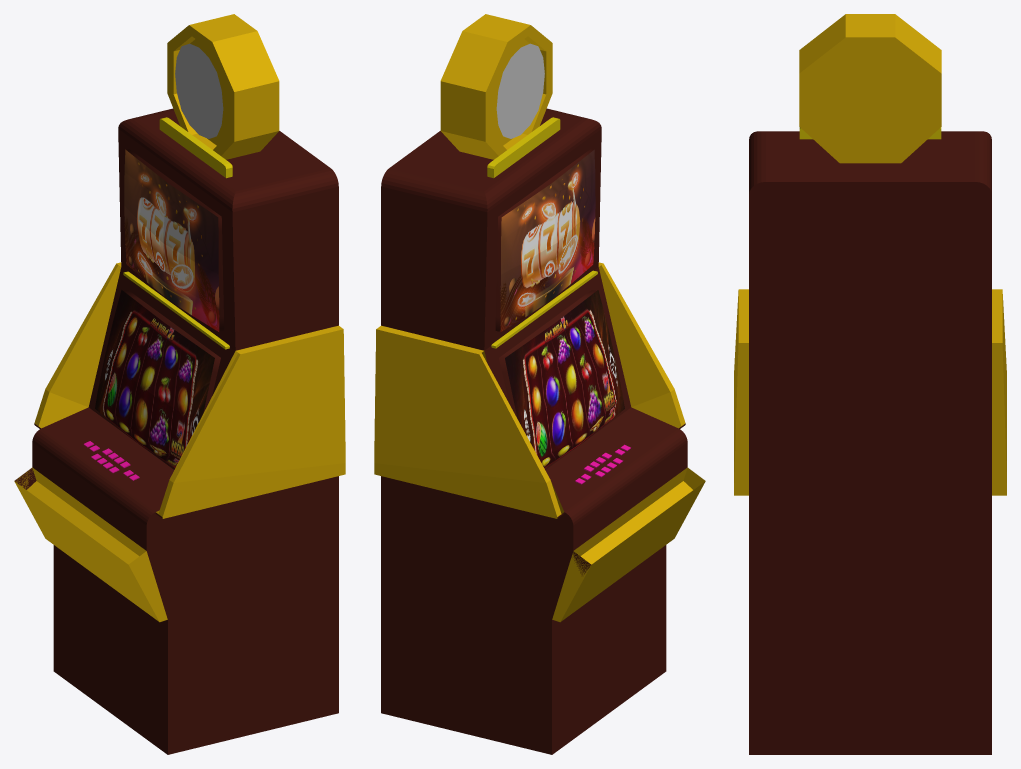
Rendered from recreativa.fbx.
3 views of the same model, side by side, from view 1: azimuth 30°, elevation 25°; view 2: azimuth 150°, elevation 25°; view 3: azimuth 270°, elevation 25° (orthographic). The views are drawn at different scales.
Parts seen in each view (by area): view 1: casino; view 2: casino; view 3: casino.
Part boxes in pixels (box(x1,y1,x2,y2)): casino: box(14, 14, 345, 754); casino: box(374, 14, 705, 754); casino: box(734, 14, 1006, 754).
Size of the model in its own units: 6271 by 18733 by 6624.
